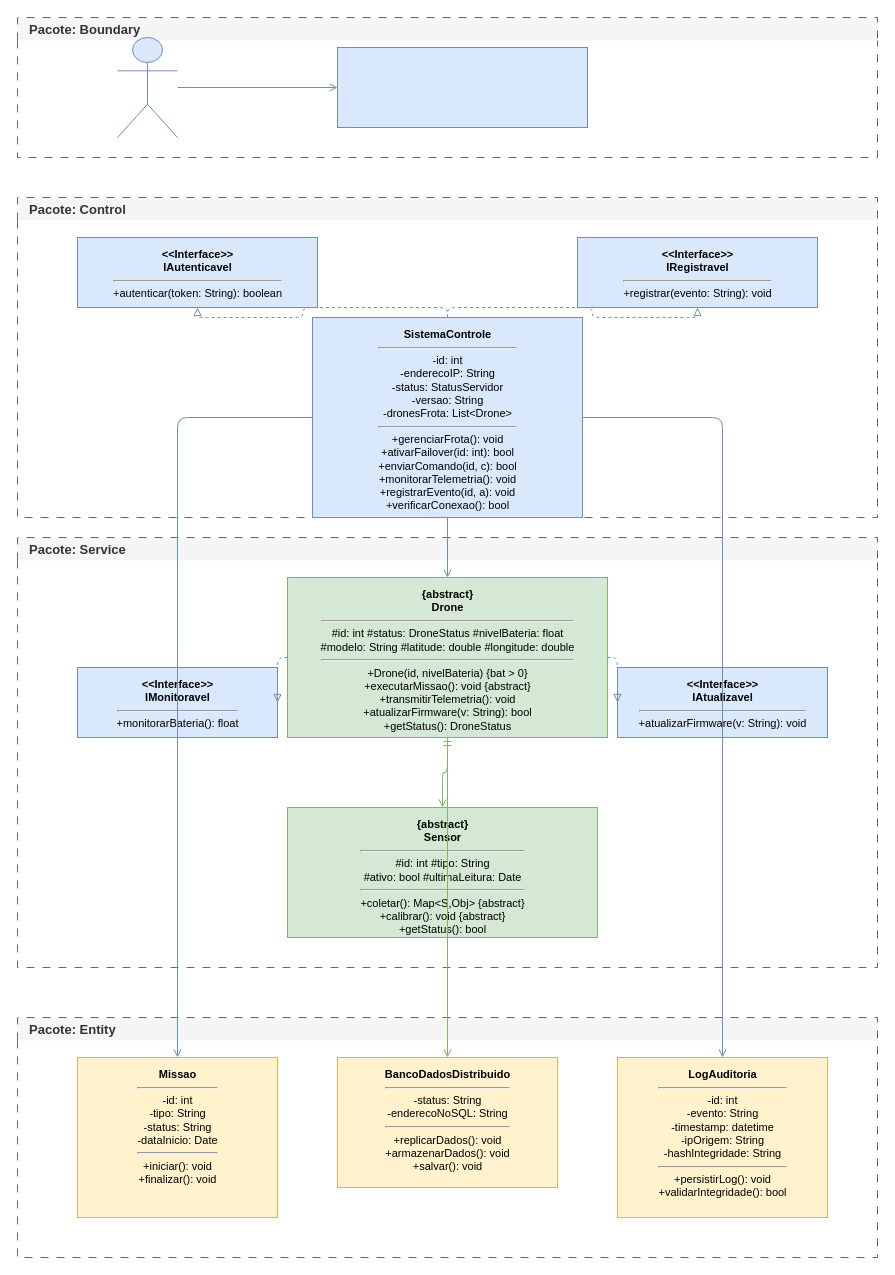
Some shapes in this 895 by 1275 pixel diagram are drawn without their labels. Each missing label, with the centre of its shape:
<<Interface>> IComandar +enviarComando(cmd: String): void: point (462, 87)
Operador: point (147, 87)
